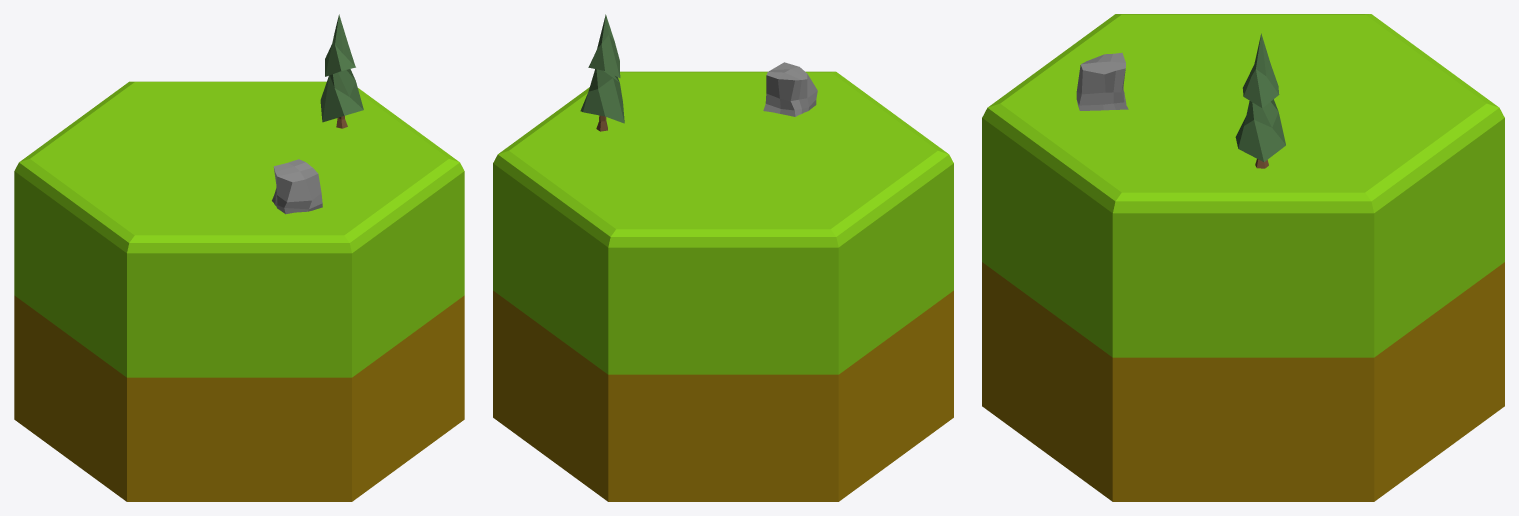
Rendered from Hex Tile Grass 10.glb.
The picture shows the model from 3 angles, left to right: view 1: azimuth 30°, elevation 25°; view 2: azimuth 150°, elevation 25°; view 3: azimuth 270°, elevation 25°; orthographic projection. The views are drawn at different scales.
Visible parts, largest first — view 1: Hex.Tile.Grass.Variant01; view 2: Hex.Tile.Grass.Variant01; view 3: Hex.Tile.Grass.Variant01.
Part boxes in pixels (x1,y1,x2,y2): Hex.Tile.Grass.Variant01: (14, 14, 464, 501); Hex.Tile.Grass.Variant01: (493, 14, 953, 501); Hex.Tile.Grass.Variant01: (982, 14, 1504, 501).
Size of the model in its own units: 1.73 by 1.83 by 2.
